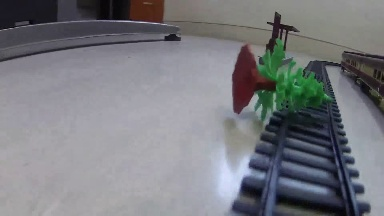tree: (228, 39, 336, 123)
